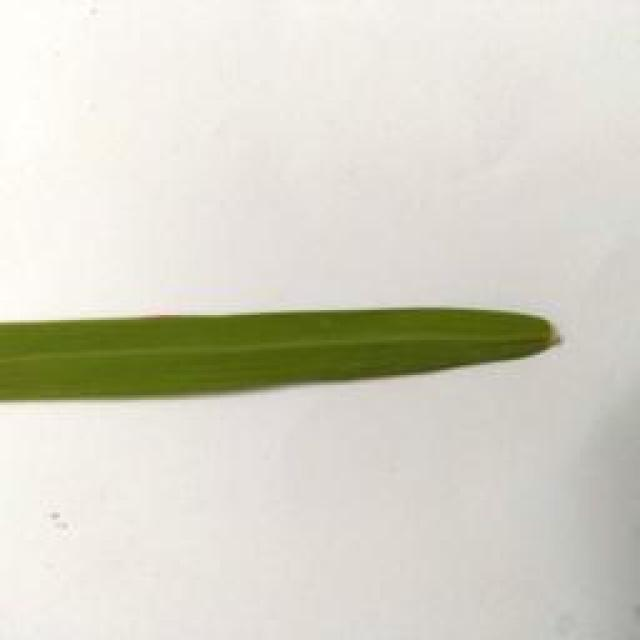Healthy-Plant: (0, 306, 563, 401)
